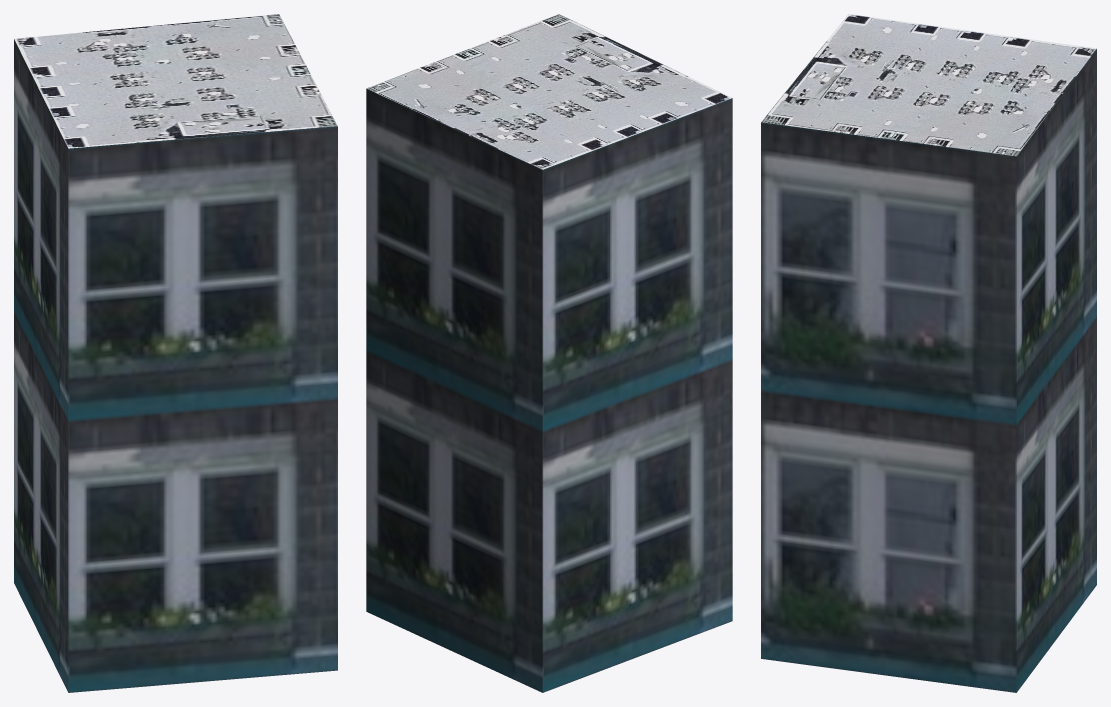
File: ResTex__385.fbx
The picture shows the model from 3 angles, left to right: view 1: azimuth 30°, elevation 25°; view 2: azimuth 150°, elevation 25°; view 3: azimuth 270°, elevation 25°; orthographic projection. The views are drawn at different scales.
Parts seen in each view (by area): view 1: CityEngineMaterial_11_m, CityEngineMaterial_2_m; view 2: CityEngineMaterial_11_m, CityEngineMaterial_2_m; view 3: CityEngineMaterial_11_m, CityEngineMaterial_2_m.
Part boxes in pixels (left/top/right/bottom): CityEngineMaterial_11_m: left=14, top=39, right=337, bottom=692; CityEngineMaterial_2_m: left=14, top=14, right=337, bottom=148; CityEngineMaterial_11_m: left=366, top=88, right=732, bottom=692; CityEngineMaterial_2_m: left=366, top=14, right=731, bottom=169; CityEngineMaterial_11_m: left=761, top=49, right=1096, bottom=692; CityEngineMaterial_2_m: left=761, top=14, right=1096, bottom=156.
Bounding box in the file's own units: 3.41 × 6 × 3.4.
Materials: 2 (2 with a texture image).
